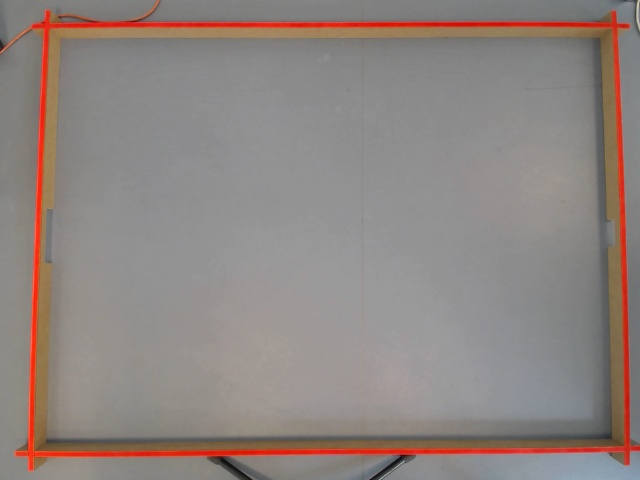big_goal: (30, 207, 58, 264)
small_goal: (602, 216, 627, 245)
wall: (24, 8, 68, 471), (28, 11, 628, 44), (592, 9, 635, 465), (12, 438, 638, 458)
